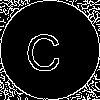C: (25, 25, 62, 72)
